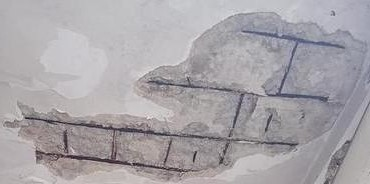Exposed reinforcement: (24, 115, 300, 147), (145, 80, 329, 103), (35, 149, 200, 173), (240, 29, 346, 50), (278, 41, 299, 94), (227, 92, 246, 138), (163, 138, 173, 165), (219, 141, 230, 165), (110, 131, 117, 160), (264, 113, 273, 134), (63, 129, 69, 154), (192, 150, 198, 165), (186, 76, 192, 86)
Spalling: (1, 10, 370, 184), (322, 139, 352, 184)
